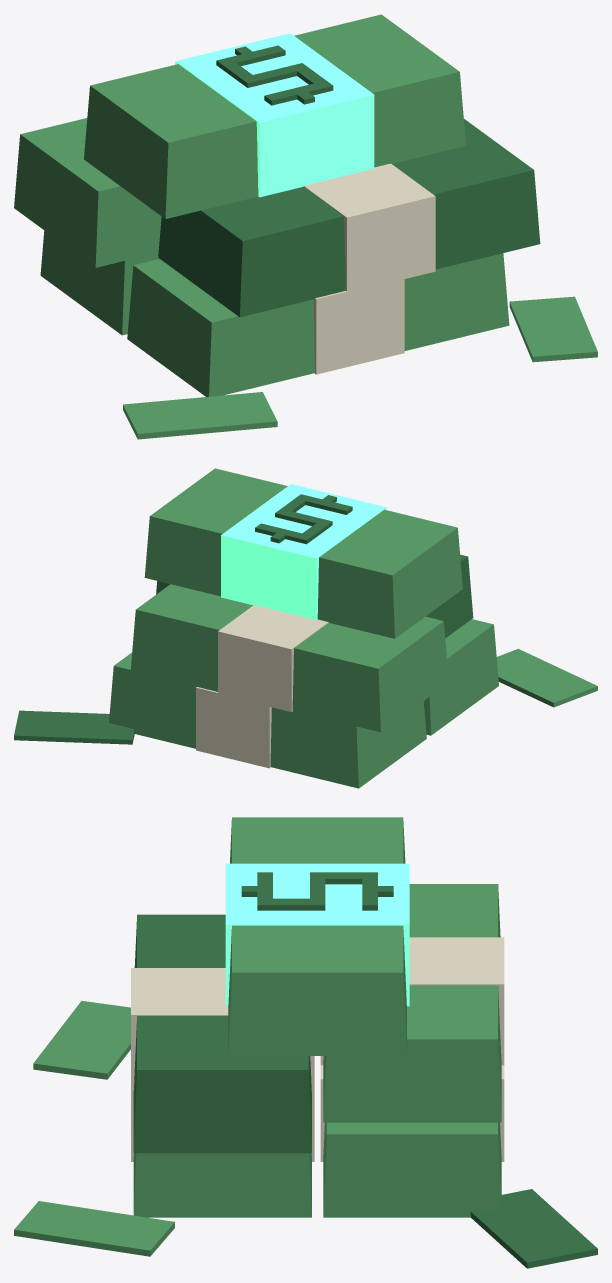
The model's file is pickup_cash.glb.
3 renders of one model, top to bottom at view 1: azimuth 30°, elevation 25°; view 2: azimuth 150°, elevation 25°; view 3: azimuth 270°, elevation 25°, orthographic. The views are drawn at different scales.
Parts seen in each view (by area): view 1: Body; view 2: Body; view 3: Body.
Boxes of the visible parts, left/top/right/bottom form: Body: left=14, top=14, right=597, bottom=439; Body: left=14, top=468, right=597, bottom=788; Body: left=14, top=817, right=597, bottom=1268.
Size of the model in its own units: 0.5556 by 0.2468 by 0.5235.
